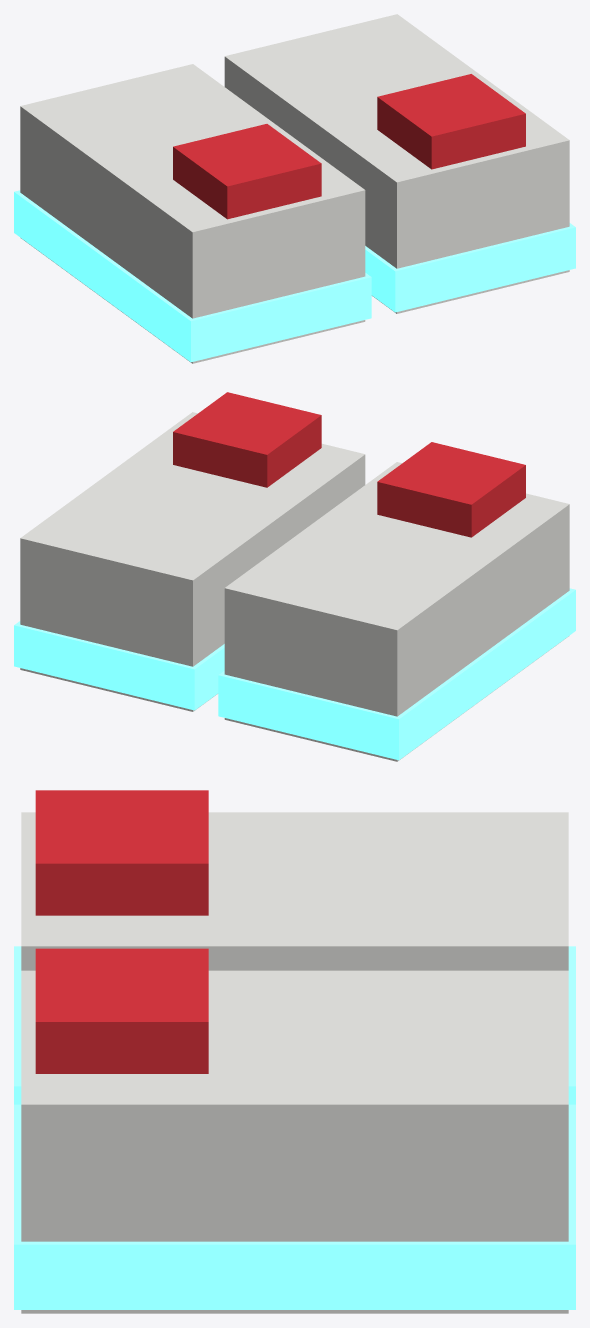
The model's file is upgrade-power_walker.glb.
The picture shows the model from 3 angles, top to bottom: view 1: azimuth 30°, elevation 25°; view 2: azimuth 150°, elevation 25°; view 3: azimuth 270°, elevation 25°; orthographic projection. The views are drawn at different scales.
Visible parts, largest first — view 1: upgrade-power_walker; view 2: upgrade-power_walker; view 3: upgrade-power_walker.
Boxes of the visible parts, box(x1,y1,x2,y2) form: upgrade-power_walker: box(14, 14, 575, 363); upgrade-power_walker: box(14, 392, 575, 761); upgrade-power_walker: box(14, 790, 575, 1313).
Size of the model in its own units: 0.49 by 0.2 by 0.39.
